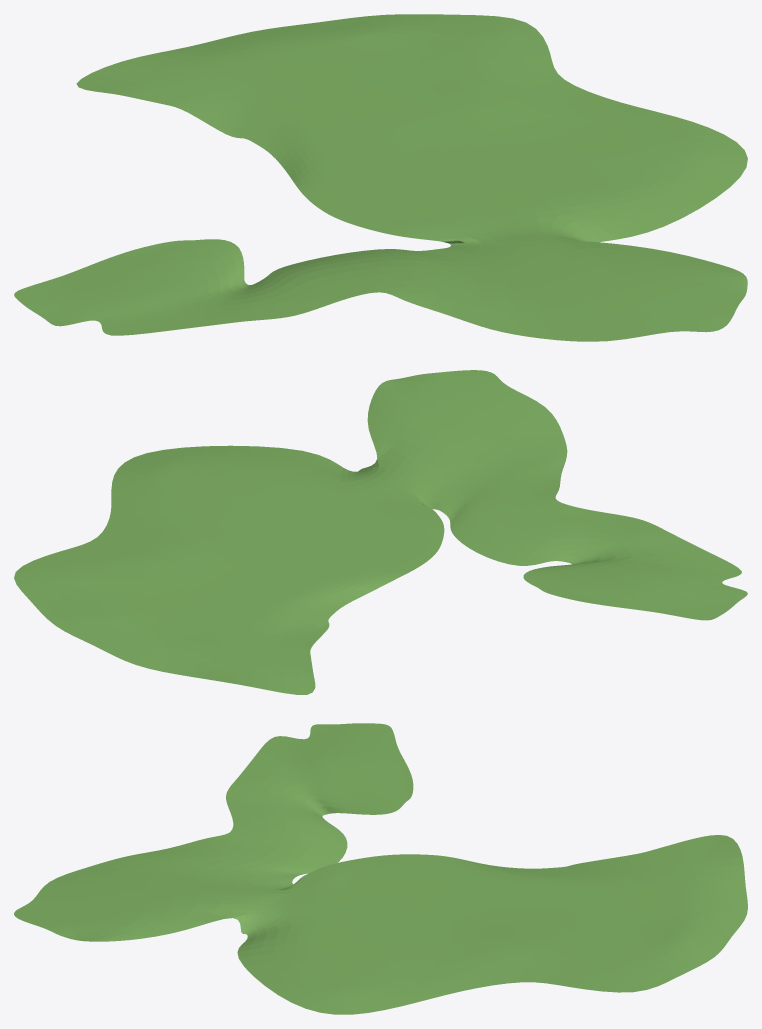
Rendered from lvl1grass_forest.fbx.
3 renders of one model, top to bottom at view 1: azimuth 30°, elevation 25°; view 2: azimuth 150°, elevation 25°; view 3: azimuth 270°, elevation 25°, orthographic. The views are drawn at different scales.
Visible parts, largest first — view 1: grass_forest; view 2: grass_forest; view 3: grass_forest.
Part boxes in pixels (left/top/right/bottom): grass_forest: left=14, top=14, right=747, bottom=341; grass_forest: left=14, top=370, right=747, bottom=694; grass_forest: left=14, top=723, right=747, bottom=1014.
Size of the model in its own units: 6773 by 253 by 7279.
